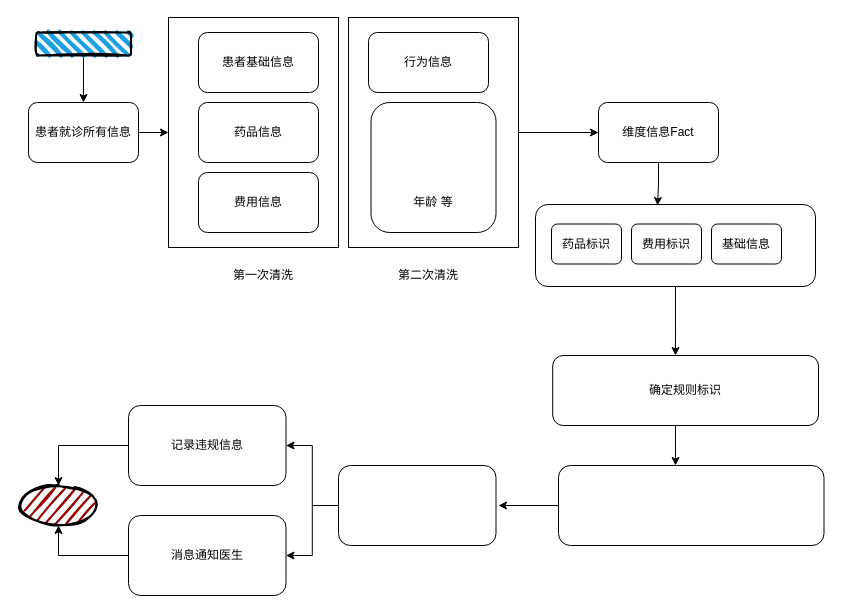
This 841x613 diagram has some shape labels left out. The box of each missing label's shape, as (x1, y1, x2, y2) in pixels:
二次数据整理: (370, 102, 496, 232)
执行规则: (558, 464, 824, 546)
生产出违规标识: (338, 464, 496, 546)
